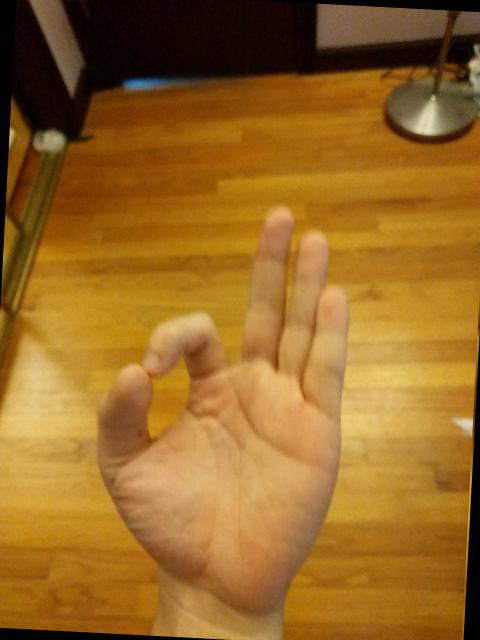F: (81, 188, 364, 624)
